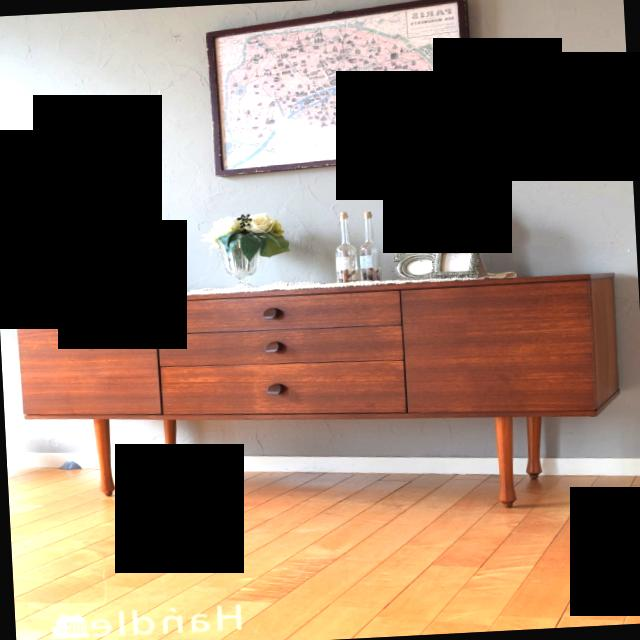vintage shelf: (13, 270, 632, 520)
